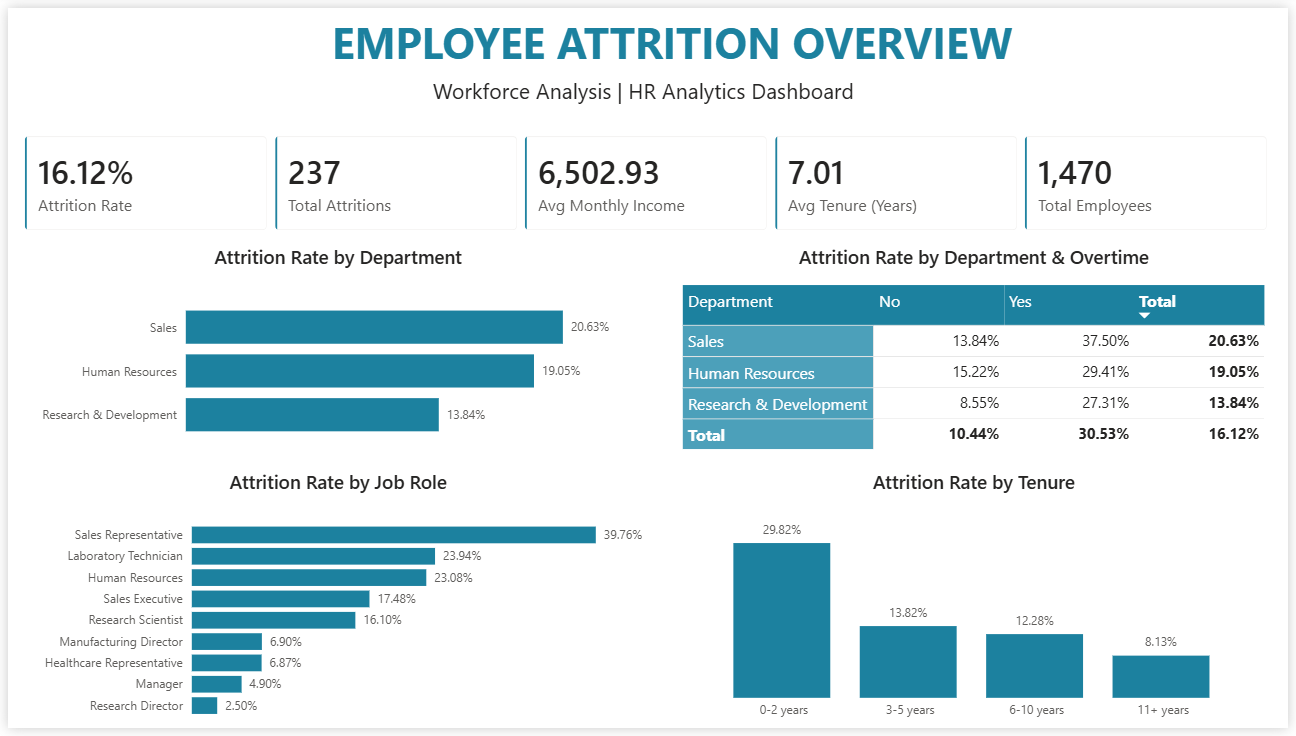

The dashboard page shown, as its layout file describes it:
{"tool":"powerbi","page":{"name":"Executive Overview","canvas":[1280,720],"ordinal":0},"visuals":[{"type":"cardVisual","fields":{"Data":["employees.Attrition Rate %","employees.Attritions","employees.Avg Monthly Income","employees.Avg Years At Company","employees.Headcount"]},"box":[0,111.4,1280,128.6],"z":0},{"type":"clusteredBarChart","fields":{"Category":["employees.Department"],"Y":["employees.Attrition Rate %"]},"box":[20,235.7,620,211.4],"z":1000},{"type":"clusteredBarChart","fields":{"Category":["employees.job_role"],"Y":["employees.Attrition Rate %"]},"box":[20,461.4,620,258.6],"z":2000},{"type":"clusteredColumnChart","fields":{"Category":["employees.tenure_band"],"Y":["employees.Attrition Rate %"]},"box":[670,461.4,591.4,258.6],"z":3000},{"type":"pivotTable","title":"Attrition Rate by Department & Overtime","fields":{"Rows":["employees.Department"],"Columns":["employees.over_time"],"Values":["employees.Attrition Rate %"]},"box":[670,235.7,591.4,211.4],"z":4000},{"type":"textbox","box":[318.6,0,702.9,77.1],"z":5000},{"type":"textbox","box":[420,62.9,440,48.6],"z":6000}]}

Visuals, with their boxes in screenshot pixels (x1, y1, x2, y2), scaled from the page's 1280x720 canvas onto the 1296x736 screenshot:
cardVisual - employees.Attrition Rate % x employees.Attritions: (0, 114, 1295, 245)
clusteredBarChart - employees.Department x employees.Attrition Rate %: (20, 241, 648, 457)
clusteredBarChart - employees.job_role x employees.Attrition Rate %: (20, 472, 648, 735)
clusteredColumnChart - employees.tenure_band x employees.Attrition Rate %: (678, 472, 1277, 735)
"Attrition Rate by Department & Overtime" pivotTable: (678, 241, 1277, 457)
textbox: (323, 0, 1034, 79)
textbox: (425, 64, 871, 114)
